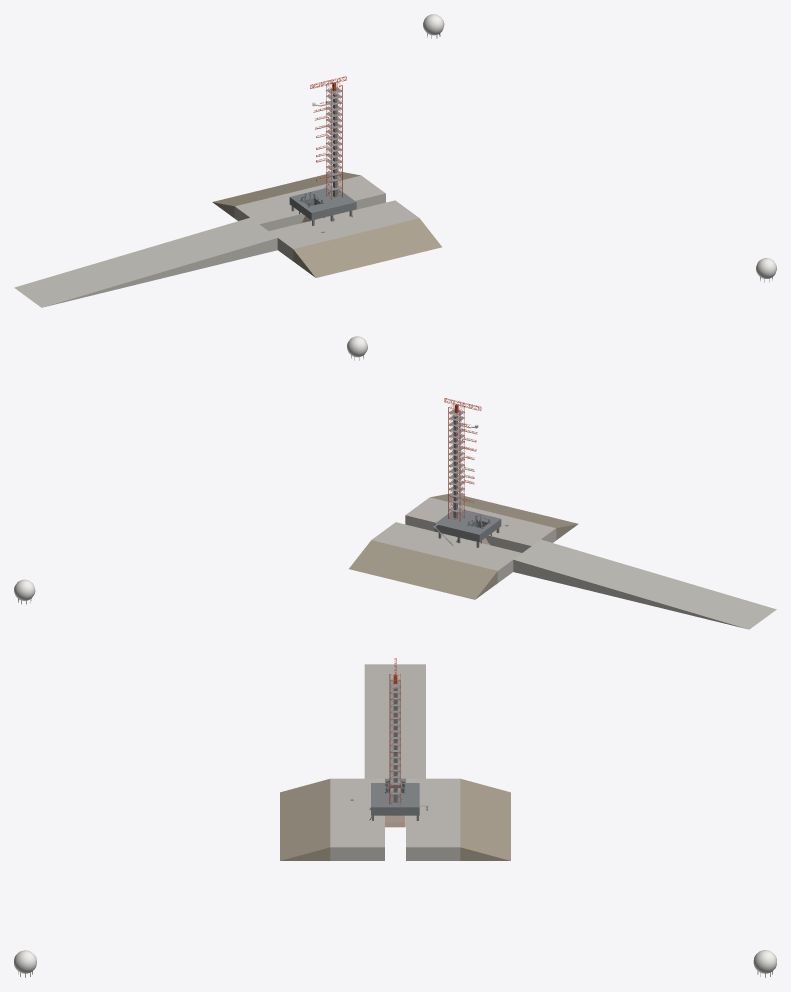
Rendered from pad-b.lod2.glb.
The picture shows the model from 3 angles, top to bottom: view 1: azimuth 30°, elevation 25°; view 2: azimuth 150°, elevation 25°; view 3: azimuth 270°, elevation 25°; orthographic projection. The views are drawn at different scales.
Visible parts, largest first — view 1: Hardstand_Concrete, Hardstand_Earth, Launcher_Base_Steel, Umbilical_Tower_Deck, Umbilical_Tower_Red, Storage_Spheres_White; view 2: Hardstand_Concrete, Hardstand_Earth, Launcher_Base_Steel, Umbilical_Tower_Red, Umbilical_Tower_Deck, Storage_Spheres_White; view 3: Hardstand_Concrete, Hardstand_Earth, Launcher_Base_Steel, Umbilical_Tower_Deck, Storage_Spheres_White, Umbilical_Tower_Red.
Part boxes in pixels (x1=…): Hardstand_Concrete: x1=14, y1=175, x2=419, y2=307; Hardstand_Earth: x1=212, y1=171, x2=441, y2=277; Launcher_Base_Steel: x1=289, y1=188, x2=356, y2=220; Umbilical_Tower_Deck: x1=326, y1=87, x2=341, y2=190; Umbilical_Tower_Red: x1=326, y1=82, x2=342, y2=199; Storage_Spheres_White: x1=423, y1=14, x2=776, y2=278; Hardstand_Concrete: x1=372, y1=497, x2=776, y2=629; Hardstand_Earth: x1=349, y1=493, x2=578, y2=599; Launcher_Base_Steel: x1=434, y1=510, x2=501, y2=541; Umbilical_Tower_Red: x1=448, y1=404, x2=464, y2=521; Umbilical_Tower_Deck: x1=448, y1=409, x2=464, y2=512; Storage_Spheres_White: x1=14, y1=336, x2=367, y2=600; Hardstand_Concrete: x1=330, y1=664, x2=460, y2=860; Hardstand_Earth: x1=280, y1=778, x2=510, y2=860; Launcher_Base_Steel: x1=371, y1=783, x2=419, y2=815; Umbilical_Tower_Deck: x1=390, y1=680, x2=400, y2=794; Storage_Spheres_White: x1=14, y1=950, x2=776, y2=973; Umbilical_Tower_Red: x1=389, y1=674, x2=400, y2=804.
Bounding box in the file's own units: 630 × 149 × 644.
